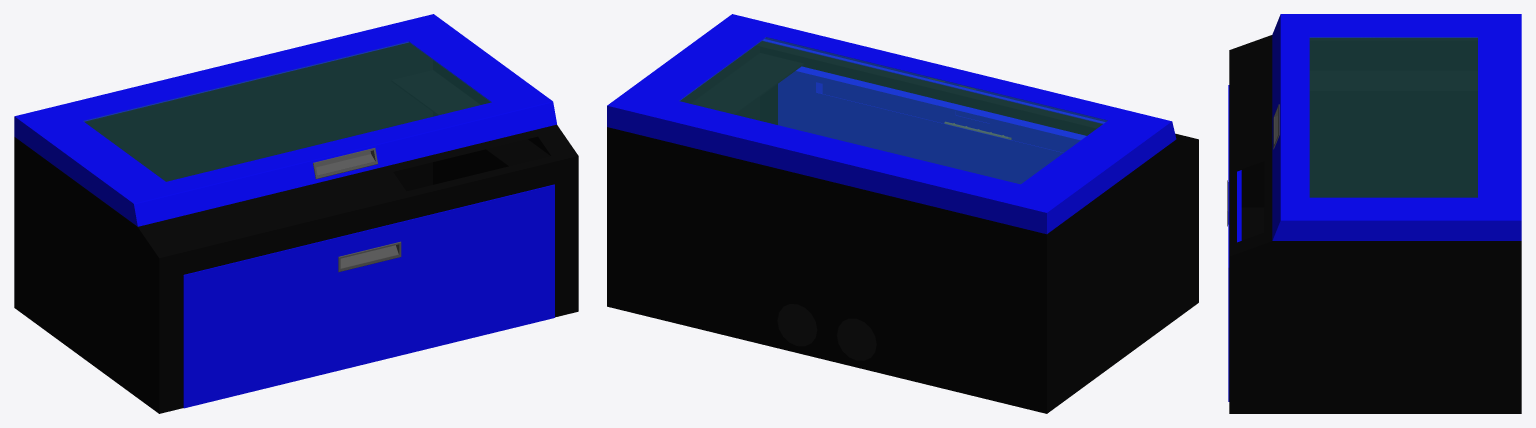
The model's file is plsClear.obj.
3 renders of one model, left to right at view 1: azimuth 30°, elevation 25°; view 2: azimuth 150°, elevation 25°; view 3: azimuth 270°, elevation 25°, orthographic. The views are drawn at different scales.
Parts seen in each view (by area): view 1: object_1, object_2, object_4, object_3, VLS3_PLS3_Motion_and_Doors_to_Body_1_132_0476_7__8__0_top_door_a, VLS3_PLS3_Motion_and_Doors_to_Body_1_132_0479_80__0_Front_Door_A; view 2: object_1, object_4, object_3, object_2; view 3: object_1, object_4, object_3, object_2.
Boxes of the visible parts, x1,y1,x2,y2 form: object_1: (14,42,578,413); object_2: (183,184,554,408); object_4: (14,14,556,226); object_3: (84,41,490,181); VLS3_PLS3_Motion_and_Doors_to_Body_1_132_0476_7__8__0_top_door_a: (313,148,377,179); VLS3_PLS3_Motion_and_Doors_to_Body_1_132_0479_80__0_Front_Door_A: (338,241,401,272); object_1: (607,41,1198,413); object_4: (607,14,1176,234); object_3: (680,37,1106,183); object_2: (778,66,1086,184); object_1: (1229,35,1521,413); object_4: (1272,14,1521,240); object_3: (1310,37,1477,197); object_2: (1228,85,1241,401).
Size of the model in its own units: 44 by 19.21 by 26.52.
